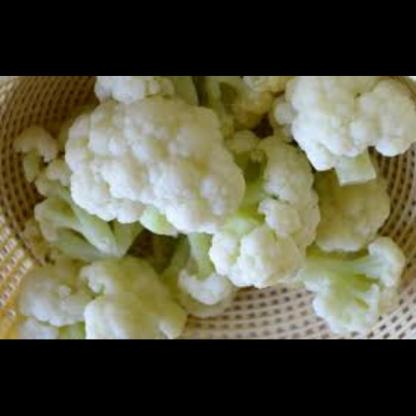cayliflower: (16, 77, 415, 340)
